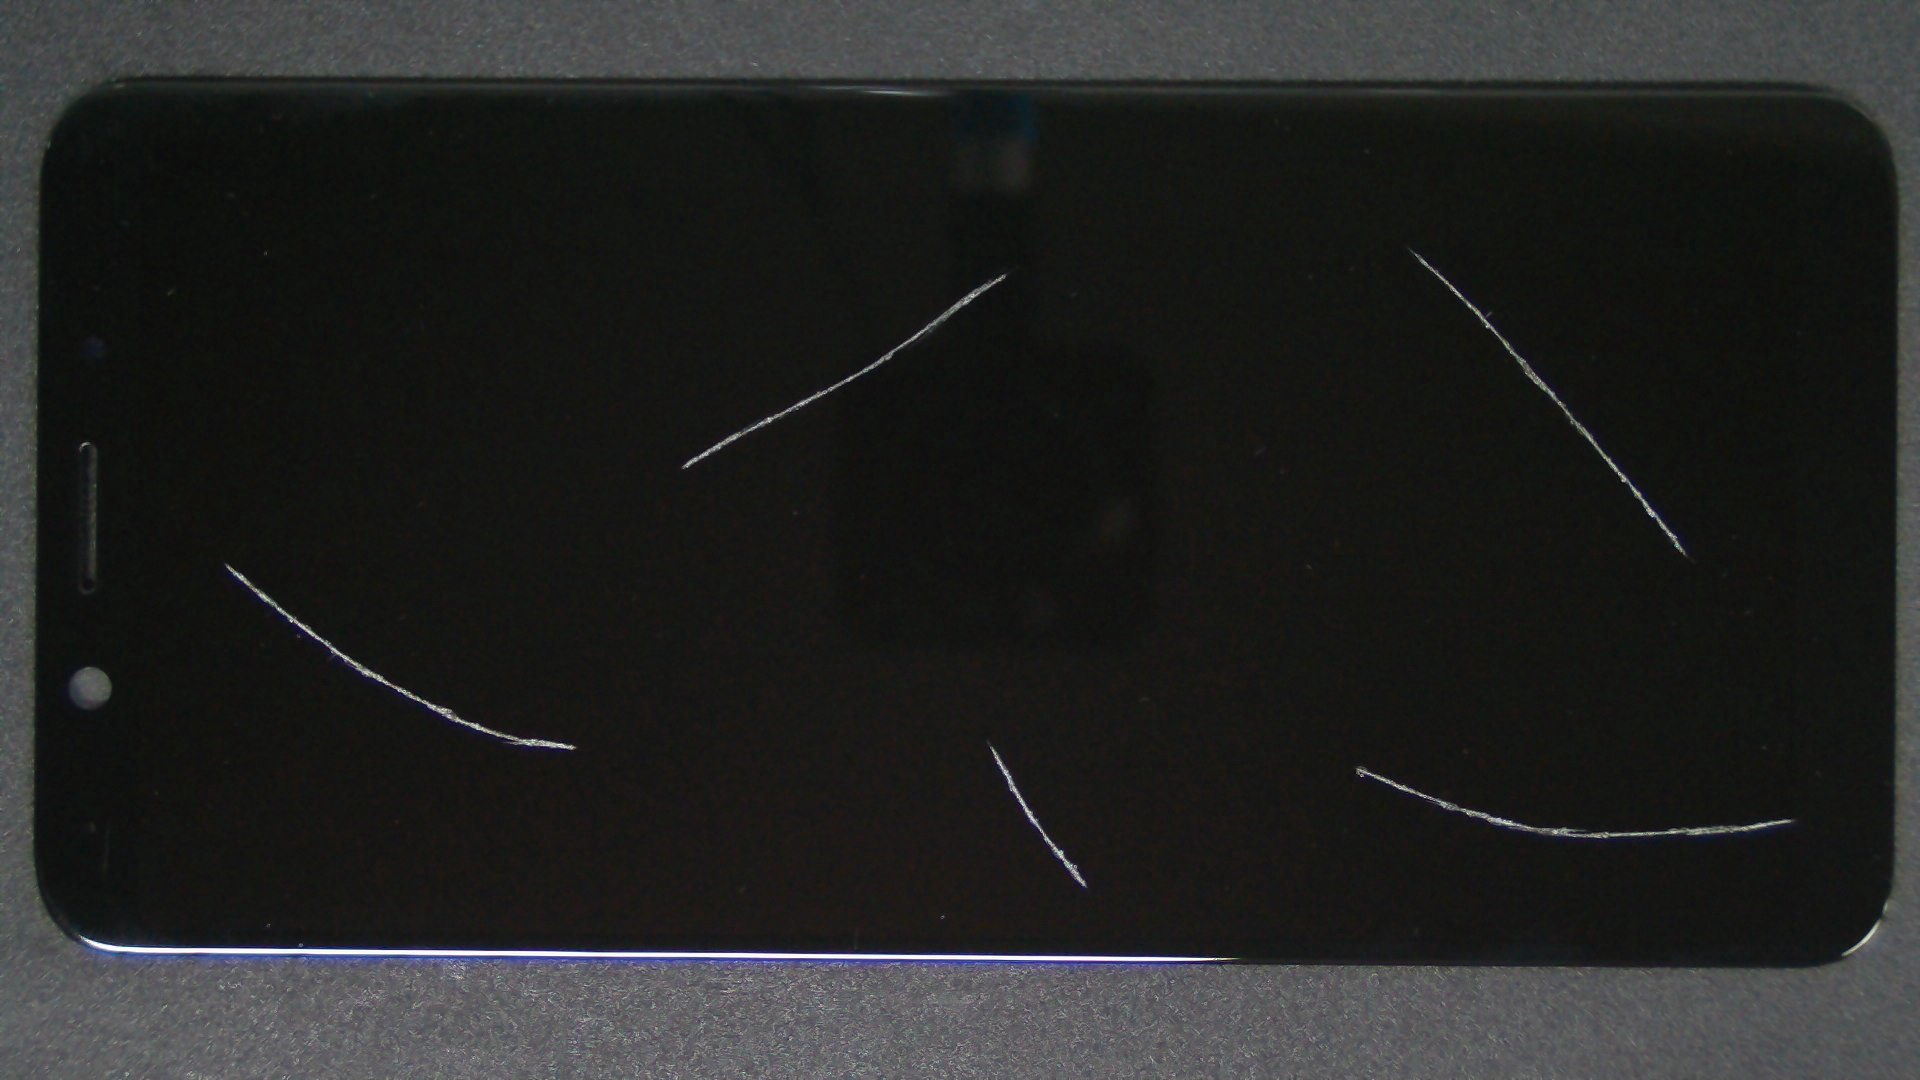oil: (680, 382, 1920, 1080), (493, 372, 1482, 1080), (703, 123, 1920, 373), (502, 137, 1506, 411), (108, 277, 340, 849)
